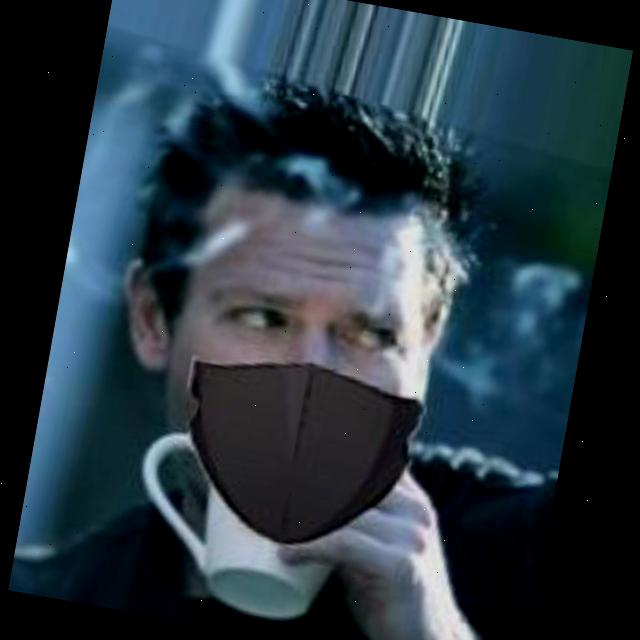suspicion: (142, 104, 468, 558)
